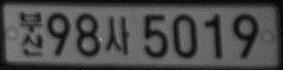0: (173, 14, 198, 58)
1: (203, 13, 228, 58)
5: (144, 13, 169, 58)
8: (76, 13, 101, 57)
9: (233, 13, 259, 58), (47, 12, 71, 56)
부산_V: (19, 11, 45, 56)
사: (105, 17, 131, 54)
